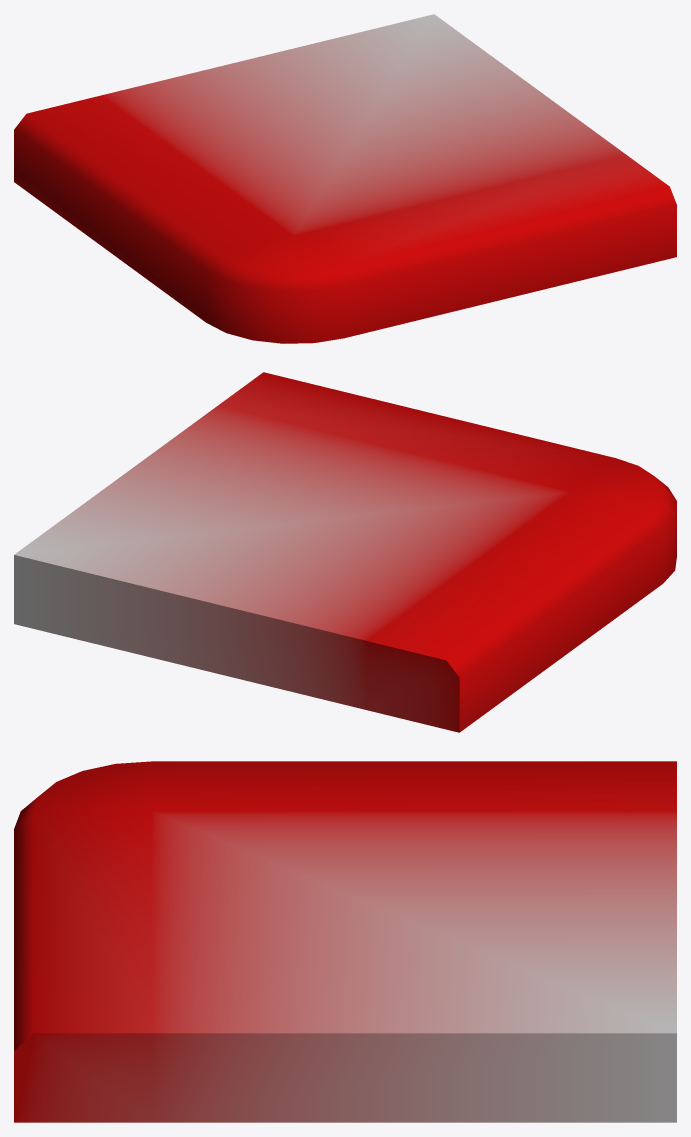
Rendered from Sidewalk_Corner_Flat_1m.gltf.
3 renders of one model, top to bottom at view 1: azimuth 30°, elevation 25°; view 2: azimuth 150°, elevation 25°; view 3: azimuth 270°, elevation 25°, orthographic. The views are drawn at different scales.
Parts seen in each view (by area): view 1: Sidewalk_Corner_Flat_1m; view 2: Sidewalk_Corner_Flat_1m; view 3: Sidewalk_Corner_Flat_1m.
Boxes of the visible parts, x1=… form: Sidewalk_Corner_Flat_1m: x1=14, y1=14, x2=676, y2=343; Sidewalk_Corner_Flat_1m: x1=14, y1=372, x2=676, y2=732; Sidewalk_Corner_Flat_1m: x1=14, y1=761, x2=676, y2=1122.
Size of what is drawn, in the model's own units: 1.01 by 0.15 by 1.01.
